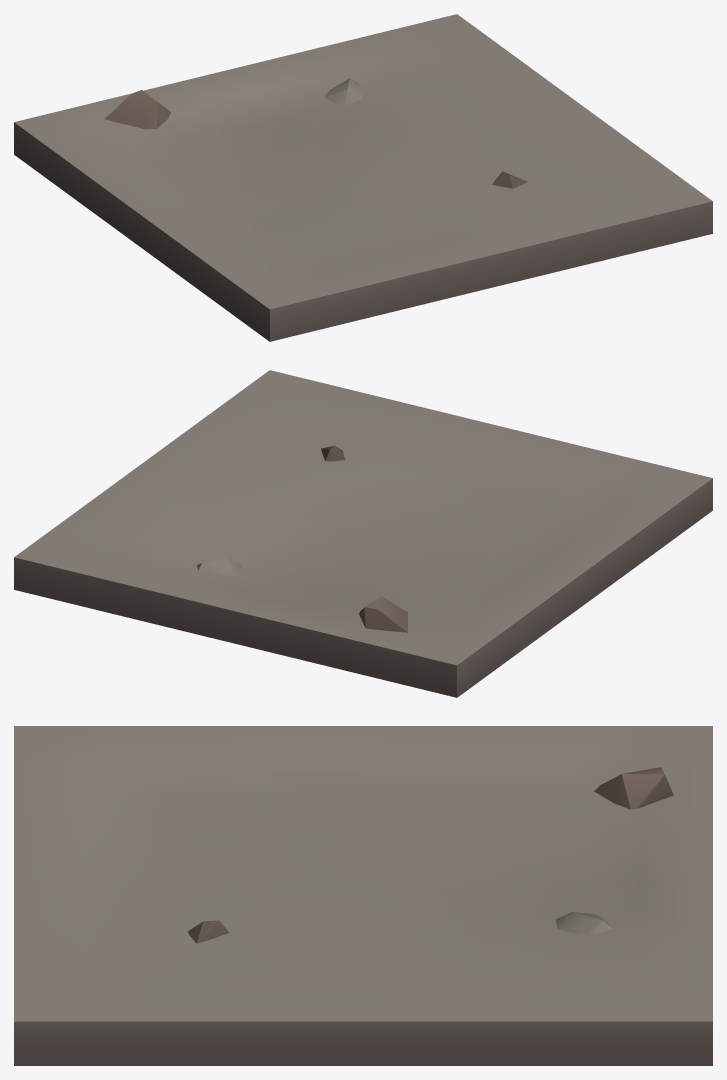
Rendered from floor_cave_small_A.glb.
3 renders of one model, top to bottom at view 1: azimuth 30°, elevation 25°; view 2: azimuth 150°, elevation 25°; view 3: azimuth 270°, elevation 25°, orthographic. The views are drawn at different scales.
Visible parts, largest first — view 1: Item; view 2: Item; view 3: Item.
Part boxes in pixels (x1,y1,x2,y2): Item: [14, 14, 712, 341]; Item: [14, 370, 712, 697]; Item: [14, 726, 712, 1065].
Size of the model in its own units: 2 by 0.2191 by 2.
Materials: 1 (1 with a texture image).
